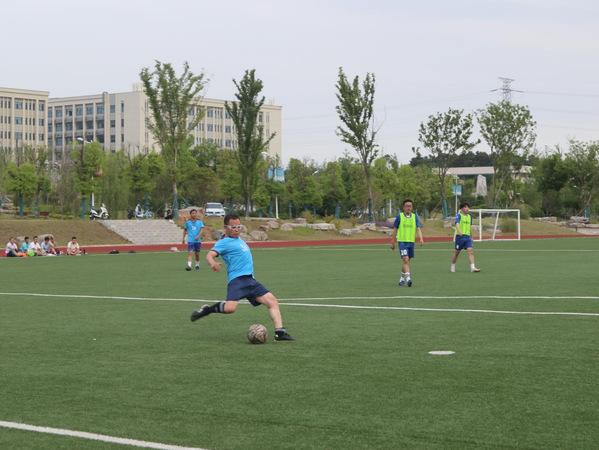football: (247, 323, 270, 344)
